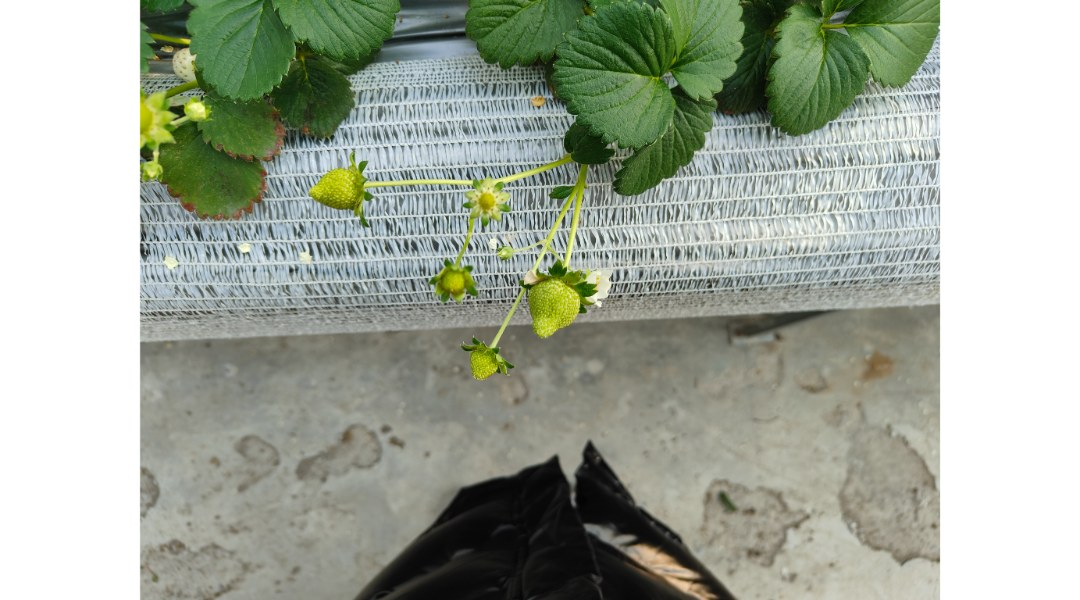berry: (527, 261, 589, 341), (304, 154, 374, 221), (455, 170, 520, 232), (457, 331, 513, 386), (432, 252, 480, 307), (495, 240, 515, 267)
flower: (582, 265, 618, 312)
strain: (492, 250, 545, 352), (519, 190, 572, 279), (496, 146, 571, 182), (563, 158, 585, 268), (366, 173, 475, 194)
